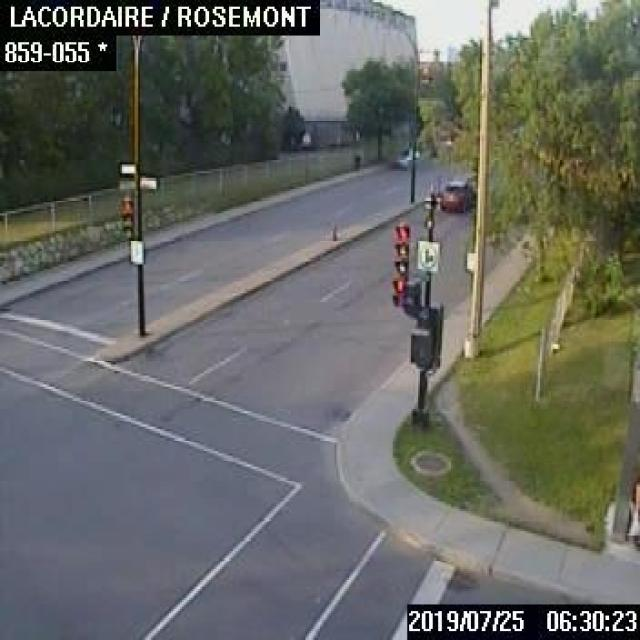vehicle: (438, 179, 471, 210), (389, 148, 418, 166)
